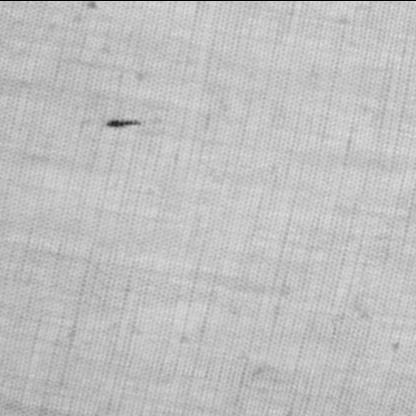oil spot: (101, 115, 150, 130)
